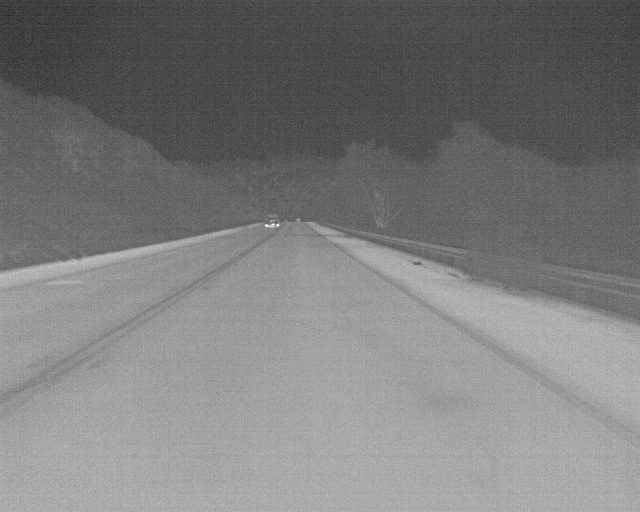vehicle: (265, 211, 283, 228)
